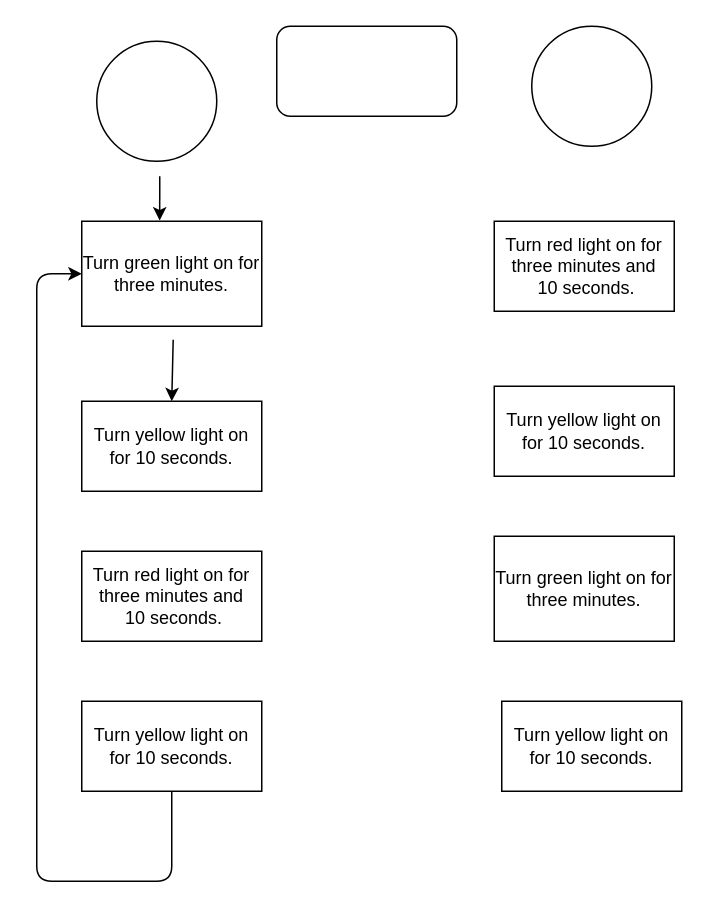
This 708x920 diagram has some shape labels left out. The box of each missing label's shape, as (x1, y1, x2, y2) in pixels:
It's for north and south traffic light.: (95, 40, 217, 161)
It's for western and eastern traffic light.: (530, 25, 652, 146)
Start: (275, 25, 457, 116)
